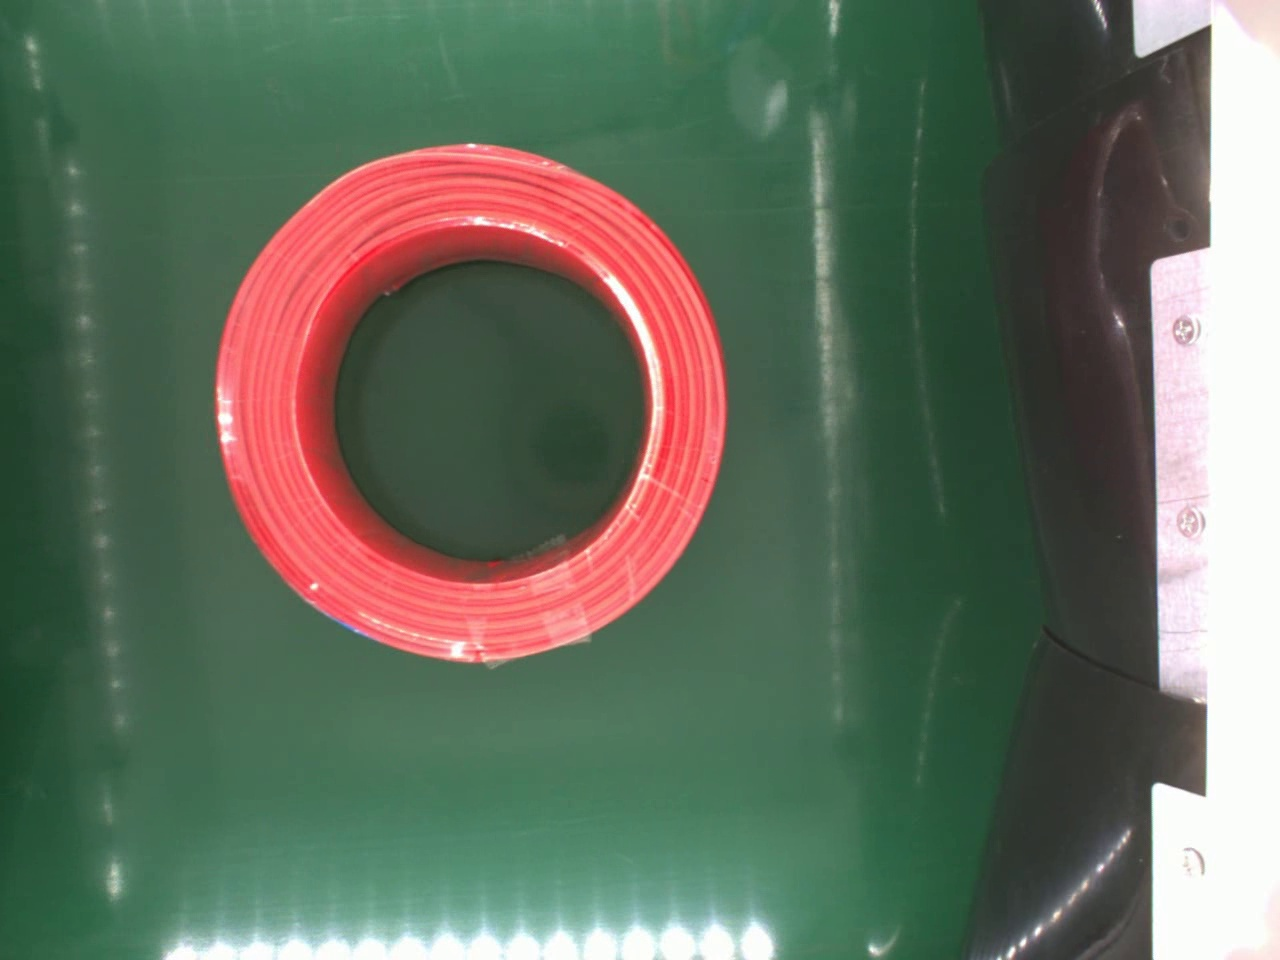red: (211, 143, 732, 667)
